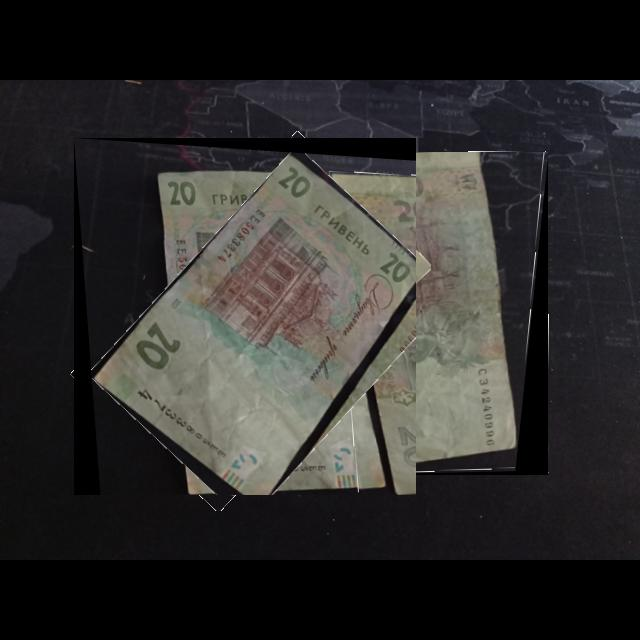20uah: (89, 150, 417, 496), (328, 152, 526, 475)
